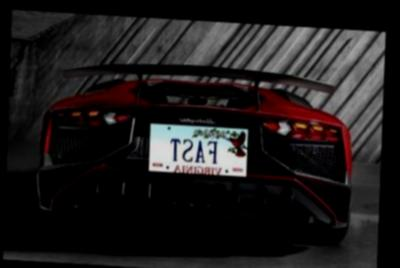License_Plate: (149, 122, 251, 177)
